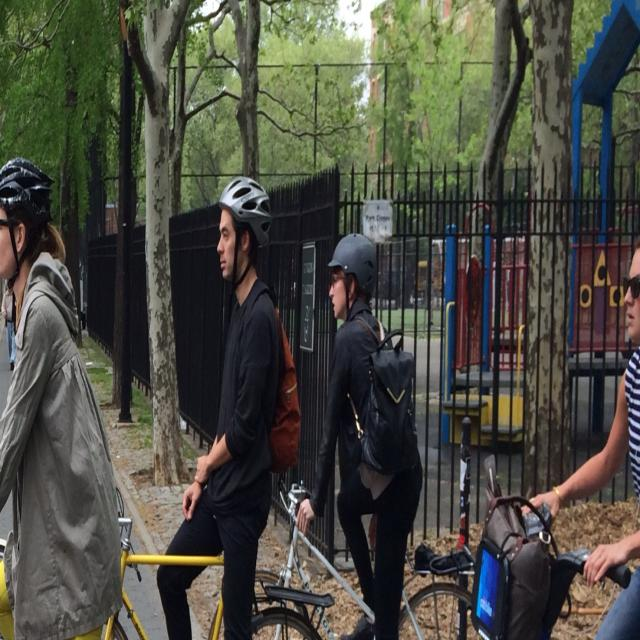bicycle: (239, 436, 507, 640), (382, 497, 640, 640), (0, 530, 205, 640), (0, 472, 38, 640)
